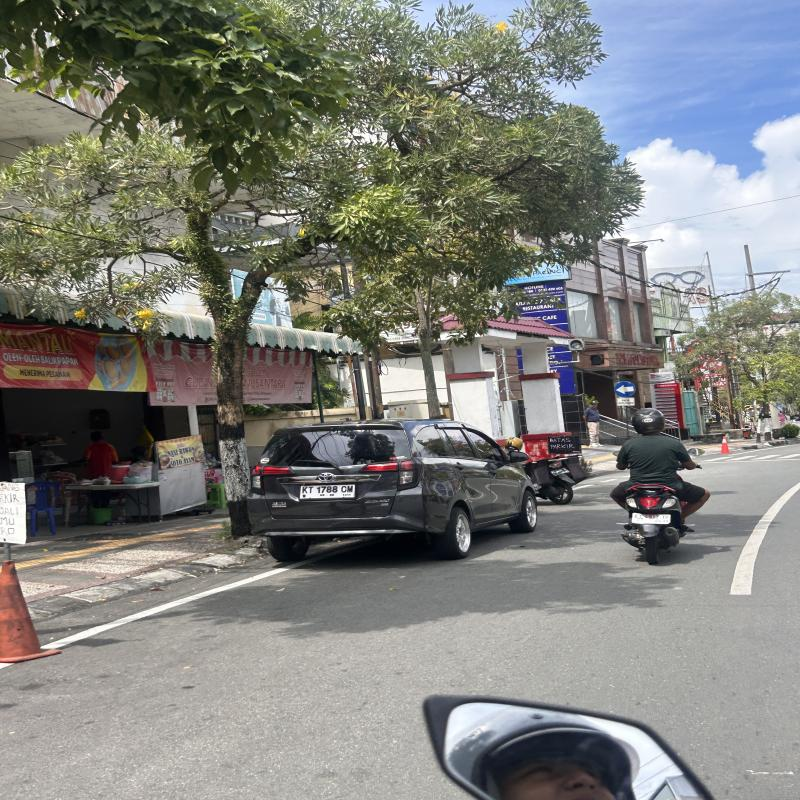license plate on a car: (300, 484, 355, 500)
